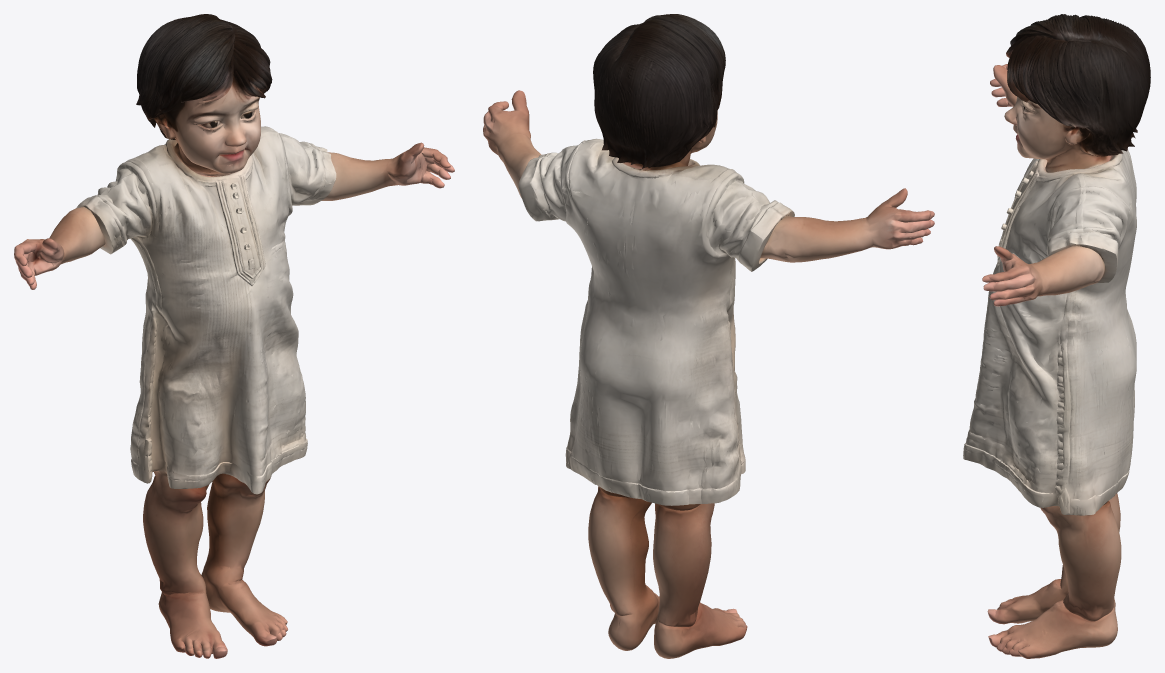
The model's file is crowd_toddler_boy_rodin_source.glb.
3 views of the same model, side by side, from view 1: azimuth 30°, elevation 25°; view 2: azimuth 150°, elevation 25°; view 3: azimuth 270°, elevation 25° (orthographic). The views are drawn at different scales.
Visible parts, largest first — view 1: model; view 2: model; view 3: model.
Boxes of the visible parts, x1=… form: model: x1=14, y1=14, x2=454, y2=658; model: x1=483, y1=14, x2=934, y2=658; model: x1=963, y1=14, x2=1150, y2=658.
Bounding box in the file's own units: 1.41 × 1.9 × 0.5214.
Materials: 1 (1 with a texture image).
